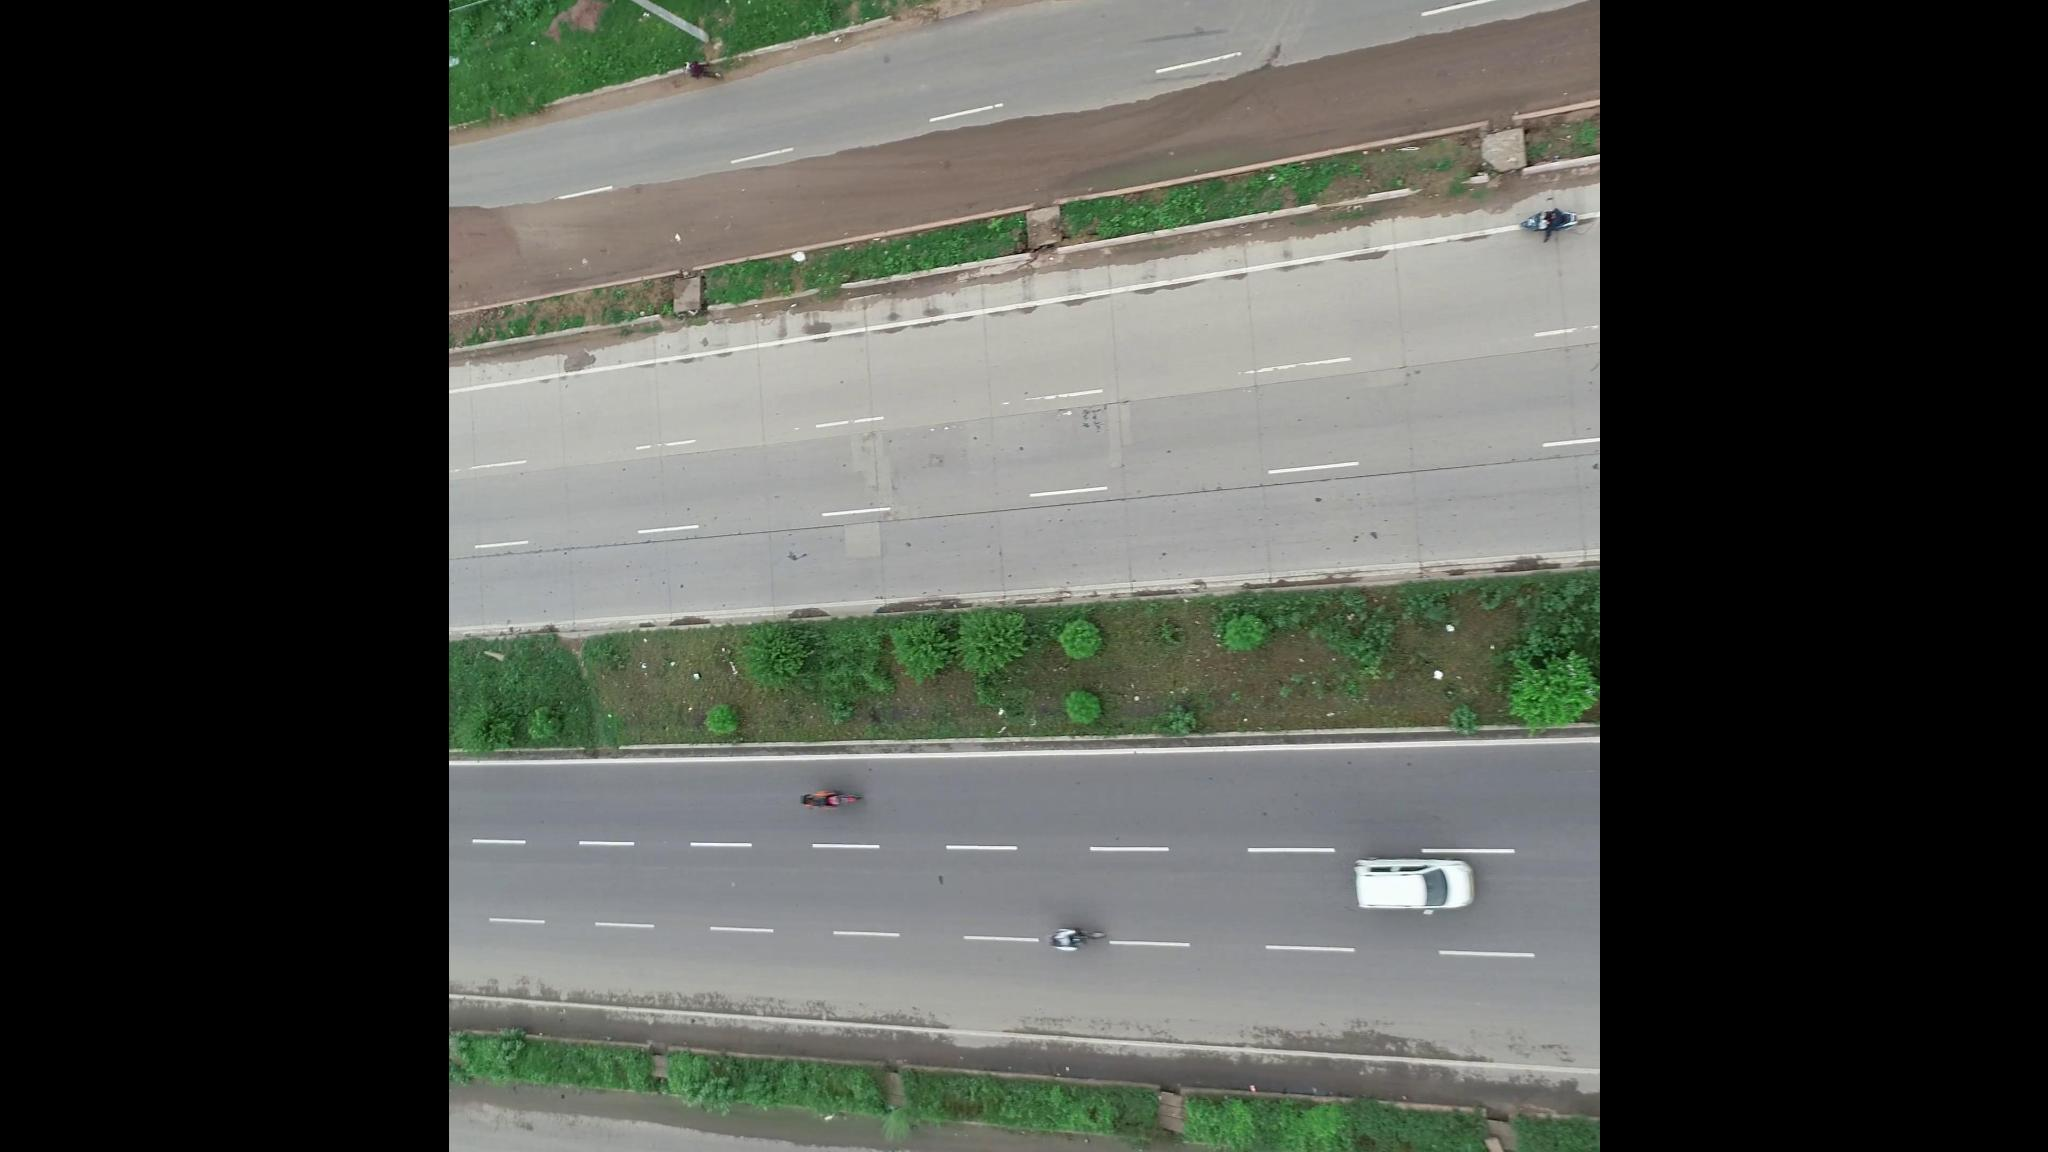Muddy_road: (1068, 53, 1318, 190), (1328, 4, 1588, 134)
